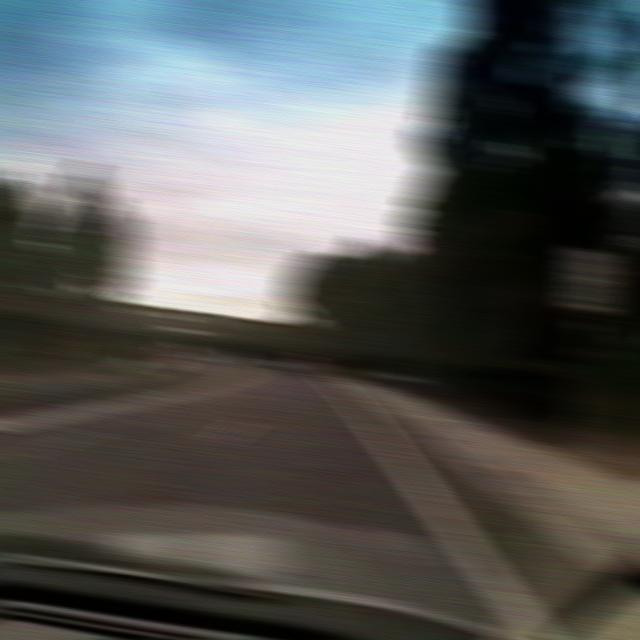speedLimit50: (562, 246, 614, 313)
